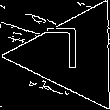L_S: (54, 30, 91, 81)
